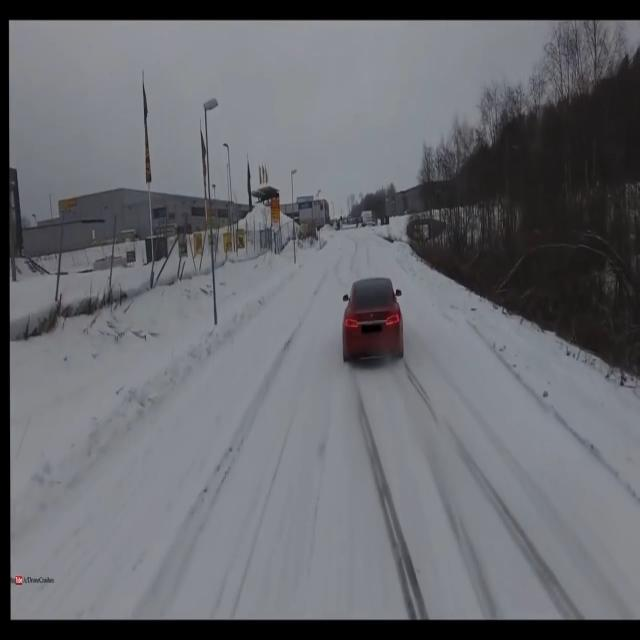Pole: (203, 96, 223, 327), (288, 164, 302, 270)
Vehicle: (339, 266, 406, 369)
